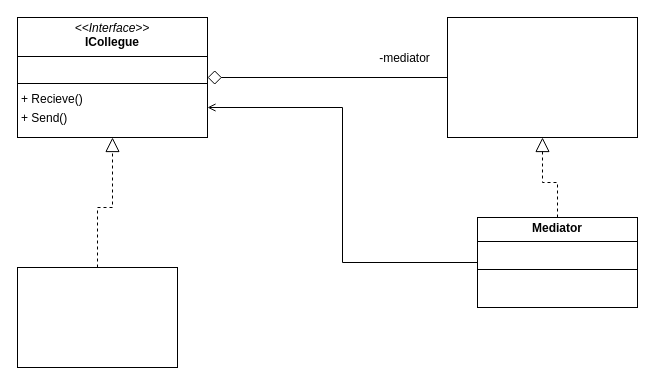
Image size: 655x385. Some labels were removed from this diagram. Each missing label, with the centre of its shape:
"<<Interface>> IMediator + Register(clg: ICollegue) + Distribute(clg: ICollegue)" goes at pixel 542 77.
"Collegue + Recieve() + Send()" goes at pixel 97 317.
